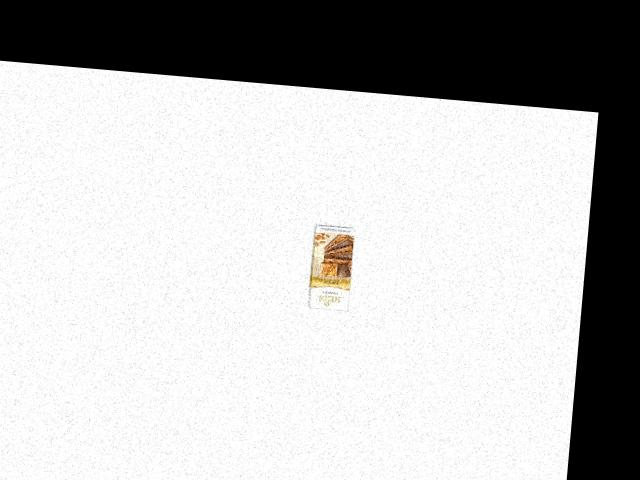chocolate: (291, 219, 363, 316)
